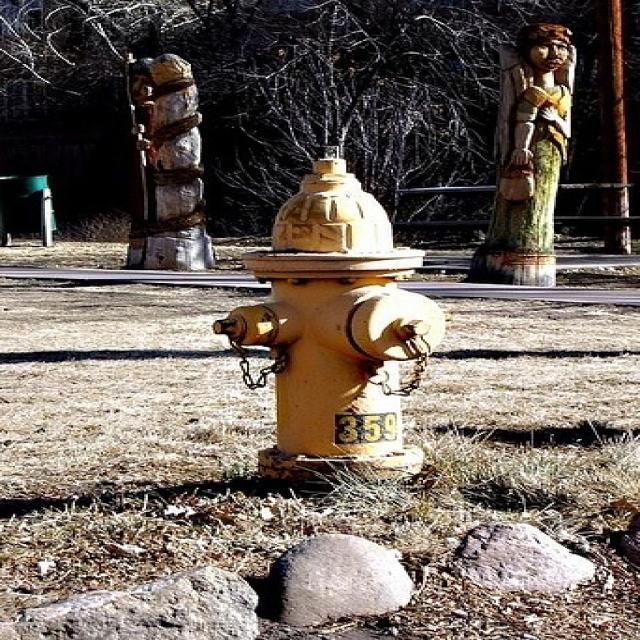fire_hydrant: (133, 123, 503, 574)
